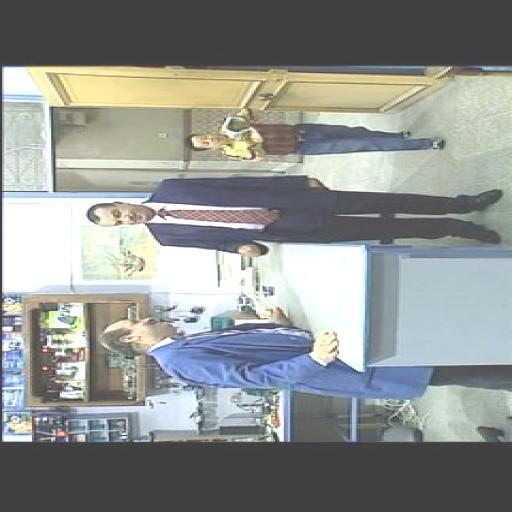beji_matrix: (100, 317, 179, 356)
fouchika: (183, 133, 222, 150)
slimane: (85, 202, 151, 226)
